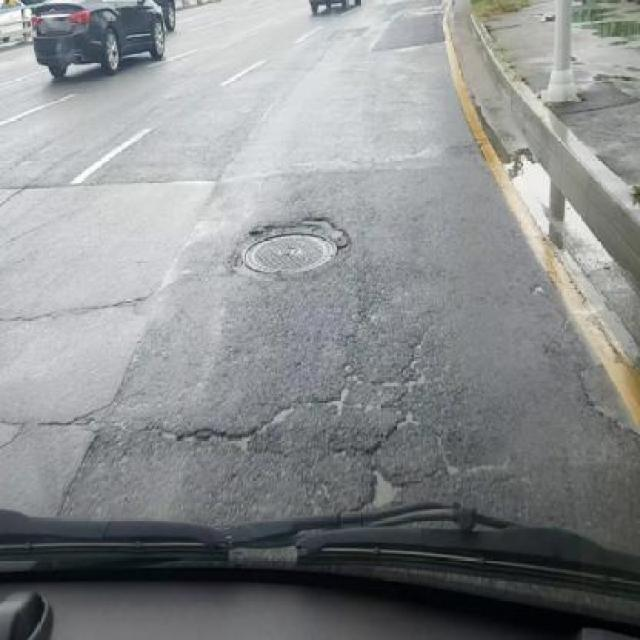Manhole: (240, 215, 354, 278)
Pothole: (356, 459, 404, 512)
